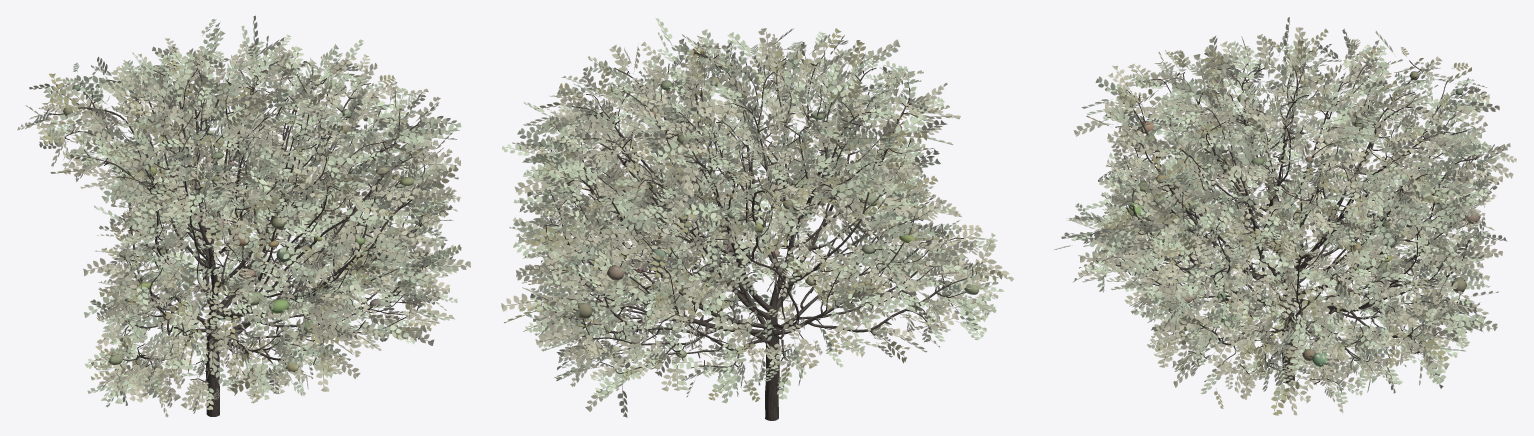
File: tree_19_camphor.glb
The picture shows the model from 3 angles, left to right: view 1: azimuth 30°, elevation 25°; view 2: azimuth 150°, elevation 25°; view 3: azimuth 270°, elevation 25°; orthographic projection. The views are drawn at different scales.
Parts seen in each view (by area): view 1: tree_19_camphor.leaves, tree_19_camphor.trunk_branches, tree_19_camphor.foliage_volume; view 2: tree_19_camphor.leaves, tree_19_camphor.trunk_branches, tree_19_camphor.foliage_volume; view 3: tree_19_camphor.leaves, tree_19_camphor.trunk_branches, tree_19_camphor.foliage_volume.
Boxes of the visible parts, bbox=[...] form: tree_19_camphor.leaves: bbox=[17, 15, 470, 417]; tree_19_camphor.trunk_branches: bbox=[46, 57, 433, 416]; tree_19_camphor.foliage_volume: bbox=[63, 83, 419, 372]; tree_19_camphor.leaves: bbox=[501, 18, 1013, 417]; tree_19_camphor.trunk_branches: bbox=[544, 51, 978, 420]; tree_19_camphor.foliage_volume: bbox=[563, 47, 979, 357]; tree_19_camphor.leaves: bbox=[1054, 17, 1516, 415]; tree_19_camphor.trunk_branches: bbox=[1090, 50, 1478, 384]; tree_19_camphor.foliage_volume: bbox=[1127, 71, 1480, 366].
Size of the model in its own units: 12.37 by 10.03 by 12.86.
3 materials, 2 textured.
